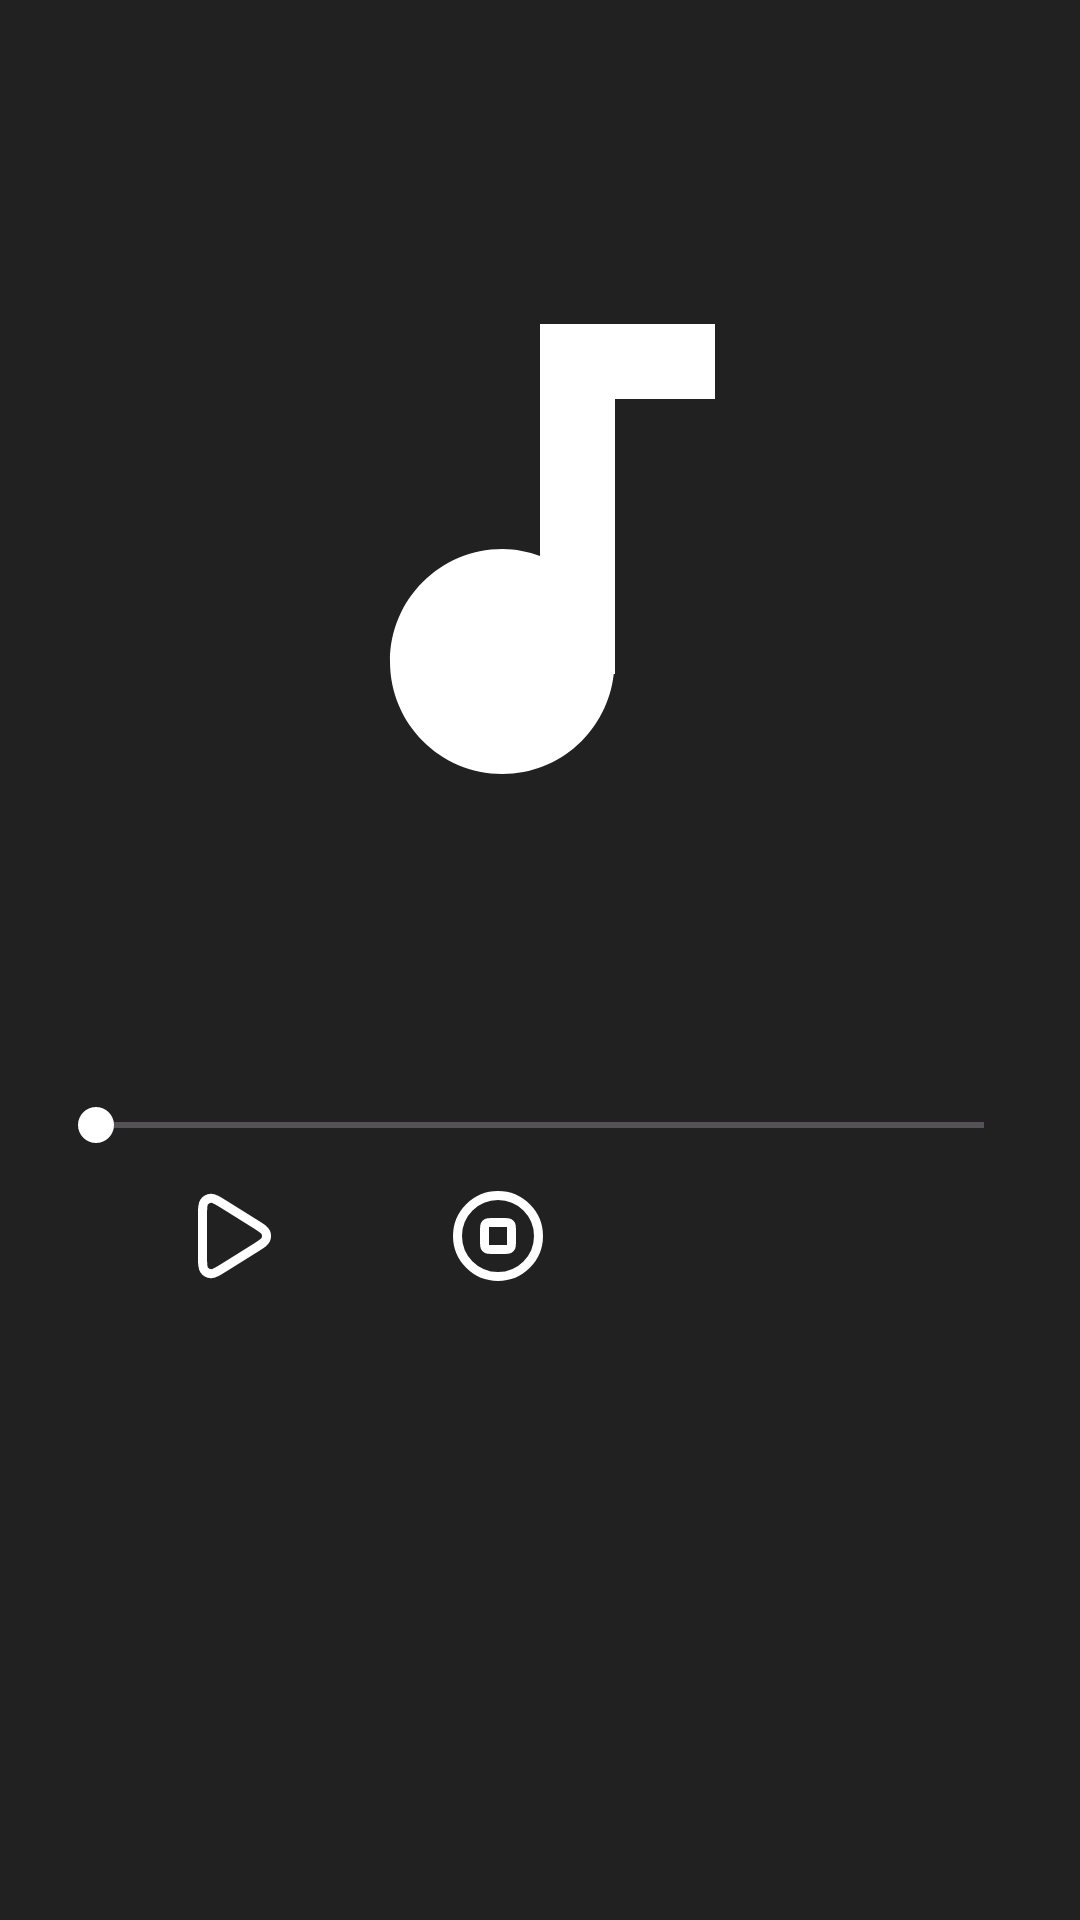

Icons on this 1080 × 1920 Android screen, each with the point to tap as [x,y]:
Play: [234,1236]
Stop: [498,1236]
